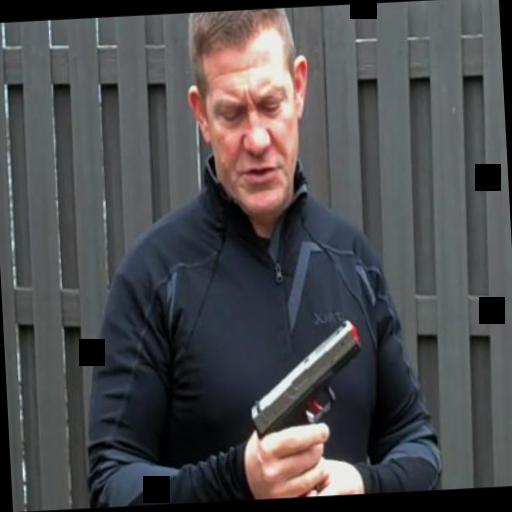Handgun: (234, 314, 376, 494)
